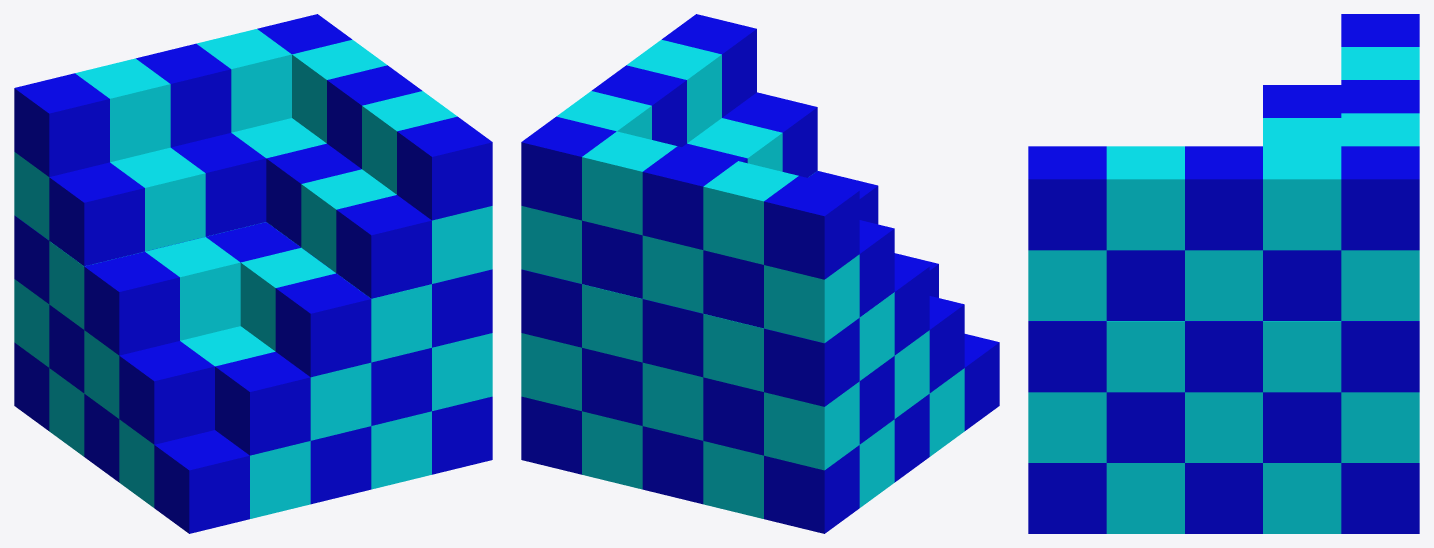
Rendered from ejercicio4.glb.
The picture shows the model from 3 angles, left to right: view 1: azimuth 30°, elevation 25°; view 2: azimuth 150°, elevation 25°; view 3: azimuth 270°, elevation 25°; orthographic projection. The views are drawn at different scales.
Parts seen in each view (by area): view 1: Box101, Box045, Box070, Box085, Box112, Box123, Box050, Box090, Box094, Box066, Box046, Box049 (+33 smaller); view 2: Box070, Box040, Box010, Box025, Box055, Box066, Box069, Box067, Box068, Box123, Box118, Box112 (+30 smaller); view 3: Box068, Box123, Box063, Box118, Box073, Box038, Box103, Box033, Box098, Box043, Box003, Box008 (+19 smaller).
Part boxes in pixels (x1,y1,x2,y2): Box101: (275, 273, 371, 377); Box045: (84, 251, 179, 355); Box070: (14, 73, 109, 176); Box085: (154, 430, 249, 533); Box112: (336, 195, 431, 298); Box123: (397, 116, 492, 220); Box050: (49, 162, 144, 266); Box090: (119, 341, 214, 444); Box094: (215, 351, 310, 455); Box066: (136, 43, 231, 147); Box046: (171, 133, 266, 236); Box049: (110, 147, 205, 251); Box070: (764, 176, 859, 279); Box040: (764, 318, 859, 406); Box010: (764, 445, 859, 533); Box025: (764, 381, 859, 470); Box055: (764, 254, 859, 343); Box066: (642, 146, 737, 249); Box069: (703, 161, 798, 264); Box067: (582, 131, 677, 235); Box068: (521, 116, 616, 220); Box123: (662, 14, 756, 117); Box118: (626, 39, 721, 143); Box112: (722, 92, 817, 177); Box068: (1341, 146, 1419, 250); Box123: (1028, 146, 1106, 250); Box063: (1263, 146, 1341, 250); Box118: (1106, 146, 1184, 250); Box073: (1185, 146, 1262, 250); Box038: (1341, 321, 1419, 392); Box103: (1028, 321, 1106, 392); Box033: (1263, 321, 1341, 392); Box098: (1106, 321, 1184, 392); Box043: (1185, 321, 1262, 392); Box003: (1263, 463, 1341, 533); Box008: (1341, 463, 1419, 533).
Bounding box in the file's own units: 0.254 × 0.2541 × 0.254.
